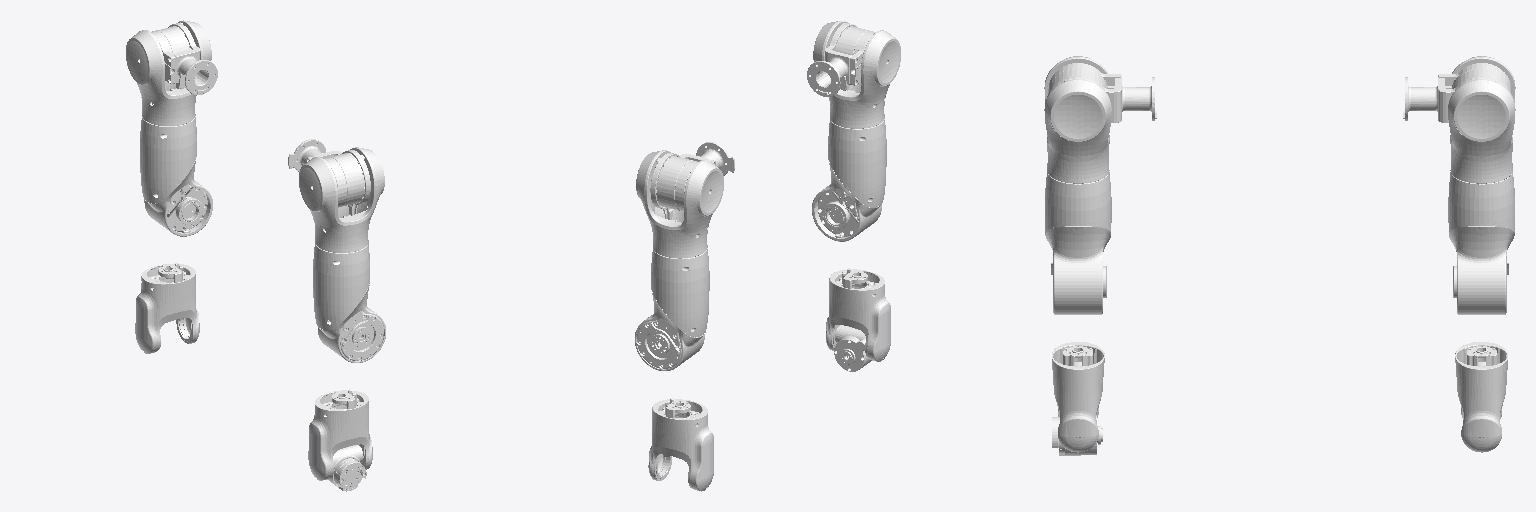
The robot description file, URDF, robot "biped_v3_arm":
<?xml version="1.0" ?>
<!-- =================================================================================== -->
<!-- |    This document was autogenerated by xacro from /home/fandes/workspace/kuavo-ros-control/src/humanoid-control/humanoid_interface_drake/models/biped_gen4.0/urdf/biped_v3_arm.xacro | -->
<!-- |    EDITING THIS FILE BY HAND IS NOT RECOMMENDED                                 | -->
<!-- =================================================================================== -->
<robot name="biped_v3_arm" xmlns:drake="https://drake.mit.edu">
  <link name="torso">
    <inertial>
      <origin xyz="-0.00505 0.0014 0.18077" rpy="0 0 0" />
      <mass value="33.6709" />
      <inertia ixx="0.28214" ixy="3e-05" ixz="0.01114" iyy="0.20534" iyz="0.00044" izz="0.13735" />
    </inertial>
    <visual>
      <origin rpy="0 0 0" xyz="0 0 0"/>
      <geometry>
        <mesh filename="../../meshes/base_link.STL"/>
      </geometry>
      <material name="">
        <color rgba="0.43137 0.45098 0.43137 1"/>
      </material>
    </visual>
    <!-- <collision>
      <origin xyz="0 0 0" rpy="0 0 0" />
      <geometry>
        <mesh filename="../../meshes/base_link.STL" />
      </geometry>
    </collision> -->
  </link>
  <!-- =========================================================== Arms ================================================================= -->
  <link name="zarm_l1_link">
    <inertial>
      <origin xyz="-0.00083 -0.02218 0.00035" rpy="0 0 0" />
      <mass value="0.962" />
      <inertia ixx="0.00225" ixy="-3e-05" ixz="0.0" iyy="0.00099" iyz="-2e-05" izz="0.00227" />
    </inertial>
    <visual>
      <origin xyz="0 0 0" rpy="0 0 0" />
      <geometry>
        <mesh filename="../../meshes/l_arm_pitch.STL" />
      </geometry>
      <material name="">
        <color rgba="1 1 1 1" />
      </material>
    </visual>
  </link>
  <joint name="zarm_l1_joint" type="revolute">
    <origin xyz="-0.017499853 0.29269999999999996 0.4245" rpy="0 0 0" />
    <parent link="torso" />
    <child link="zarm_l1_link" />
    <axis xyz="0 1 0" />
    <limit lower="-3.14159265358979" upper="1.5707963267949" effort="100.0" velocity="41.3433333333333" />
  </joint>
  <transmission type="SimpleTransmission">
    <joint name="zarm_l1_joint" />
    <actuator name="zarm_l1_joint_motor" />
  </transmission>
  <link name="zarm_l2_link">
    <inertial>
      <origin xyz="-0.00791 0.0 -0.04655" rpy="0 0 0" />
      <mass value="0.57" />
      <inertia ixx="0.00163" ixy="0.0" ixz="5e-05" iyy="0.00211" iyz="0.0" izz="0.00122" />
    </inertial>
    <visual>
      <origin xyz="0 0 0" rpy="0 0 0" />
      <geometry>
        <mesh filename="../../meshes/l_arm_roll.STL" />
      </geometry>
      <material name="">
        <color rgba="1 1 1 1" />
      </material>
    </visual>
  </link>
  <joint name="zarm_l2_joint" type="revolute">
    <origin xyz="0 0 0" rpy="0 0 0" />
    <parent link="zarm_l1_link" />
    <child link="zarm_l2_link" />
    <axis xyz="1 0 0" />
    <limit lower="-0.349065850398866" upper="2.0943951023932" effort="50.0" velocity="19.154" />
  </joint>
  <transmission type="SimpleTransmission">
    <joint name="zarm_l2_joint" />
    <actuator name="zarm_l2_joint_motor" />
  </transmission>
  <link name="zarm_l3_link">
    <inertial>
      <origin xyz="0.00628 0.00107 -0.20878" rpy="0 0 0" />
      <mass value="1.65" />
      <inertia ixx="0.00815" ixy="-4e-05" ixz="0.00085" iyy="0.00828" iyz="0.00014" izz="0.00206" />
    </inertial>
    <visual>
      <origin xyz="0 0 0" rpy="0 0 0" />
      <geometry>
        <mesh filename="../../meshes/l_arm_yaw.STL" />
      </geometry>
      <material name="">
        <color rgba="1 1 1 1" />
      </material>
    </visual>
  </link>
  <joint name="zarm_l3_joint" type="revolute">
    <origin xyz="0 0 0" rpy="0 0 0" />
    <parent link="zarm_l2_link" />
    <child link="zarm_l3_link" />
    <axis xyz="0 0 1" />
    <limit lower="-1.5707963267949" upper="1.5707963267949" effort="39.0" velocity="18.84" />
  </joint>
  <transmission type="SimpleTransmission">
    <joint name="zarm_l3_joint" />
    <actuator name="zarm_l3_joint_motor" />
  </transmission>
  <link name="zarm_l4_link">
    <inertial>
      <origin xyz="-0.01611 0.00143 -0.04857" rpy="0 0 0" />
      <mass value="0.429" />
      <inertia ixx="0.00135" ixy="0.0" ixz="-0.0001" iyy="0.00114" iyz="0.0" izz="0.00083" />
    </inertial>
    <visual>
      <origin xyz="0 0 0" rpy="0 0 0" />
      <geometry>
        <mesh filename="../../meshes/l_forearm.STL" />
      </geometry>
      <material name="">
        <color rgba="1 1 1 1" />
      </material>
    </visual>
  </link>
  <joint name="zarm_l4_joint" type="revolute">
    <origin xyz="0.0200000000000006 0 -0.283699999999996" rpy="0 0 0" />
    <parent link="zarm_l3_link" />
    <child link="zarm_l4_link" />
    <axis xyz="0 1 0" />
    <limit lower="-2.61799387799149" upper="0.0" effort="50.0" velocity="18.84" />
  </joint>
  <transmission type="SimpleTransmission">
    <joint name="zarm_l4_joint" />
    <actuator name="zarm_l4_joint_motor" />
  </transmission>
  <link name="zarm_l5_link">
    <inertial>
      <origin xyz="-0.00207 0.00018 -0.05079" rpy="0 0 0" />
      <mass value="0.61" />
      <inertia ixx="0.00107" ixy="0.0" ixz="-4e-05" iyy="0.00146" iyz="0.0" izz="0.00083" />
    </inertial>
    <visual>
      <origin xyz="0 0 0" rpy="0 0 0" />
      <geometry>
        <mesh filename="../../meshes/l_hand_yaw.STL" />
      </geometry>
      <material name="">
        <color rgba="1 1 1 1" />
      </material>
    </visual>
  </link>
  <joint name="zarm_l5_joint" type="revolute">
    <origin xyz="-0.0200000000000025 0 -0.127037274261591" rpy="0 0 0" />
    <parent link="zarm_l4_link" />
    <child link="zarm_l5_link" />
    <axis xyz="0 0 1" />
    <limit lower="-1.5707963267949" upper="1.5707963267949" effort="12.0" velocity="21.666" />
  </joint>
  <transmission type="SimpleTransmission">
    <joint name="zarm_l5_joint" />
    <actuator name="zarm_l5_joint_motor" />
  </transmission>
  <link name="zarm_l6_link">
    <inertial>
      <origin xyz="-0.00111 0.00335 -0.01335" rpy="0 0 0" />
      <mass value="0.331" />
      <inertia ixx="0.00022" ixy="0.0" ixz="0.0" iyy="0.00027" iyz="0.0" izz="0.00028" />
    </inertial>
    <visual>
      <origin xyz="0 0 0" rpy="0 0 0" />
      <geometry>
        <mesh filename="../../meshes/l_hand_roll.STL" />
      </geometry>
      <material name="">
        <color rgba="1 1 1 1" />
      </material>
    </visual>
  </link>
  <joint name="zarm_l6_joint" type="revolute">
    <origin xyz="0.000199999999999079 0 -0.106462725738415" rpy="0 0 0" />
    <parent link="zarm_l5_link" />
    <child link="zarm_l6_link" />
    <axis xyz="1 0 0" />
    <limit lower="-1.30899693899575" upper="0.698131700797732" effort="12.0" velocity="21.666" />
  </joint>
  <transmission type="SimpleTransmission">
    <joint name="zarm_l6_joint" />
    <actuator name="zarm_l6_joint_motor" />
  </transmission>
  <link name="zarm_l7_link">
    <inertial>
      <origin xyz="0.00186 0.01014 -0.09044" rpy="0 0 0" />
      <mass value="0.64" />
      <inertia ixx="0.00071" ixy="1e-05" ixz="2e-05" iyy="0.0007" iyz="-4e-05" izz="0.00012" />
    </inertial>
    <visual>
      <origin xyz="0 0 0" rpy="0 0 0" />
      <geometry>
        <mesh filename="../../meshes/l_hand_pitch.STL" />
      </geometry>
      <material name="">
        <color rgba="1 1 1 1" />
      </material>
    </visual>
  </link>
  <joint name="zarm_l7_joint" type="revolute">
    <origin xyz="0 0 -0.0210004653879916" rpy="0 0 0" />
    <parent link="zarm_l6_link" />
    <child link="zarm_l7_link" />
    <axis xyz="0 1 0" />
    <limit lower="-0.698131700797732" upper="0.698131700797732" effort="12.0" velocity="21.666" />
  </joint>
  <transmission type="SimpleTransmission">
    <joint name="zarm_l7_joint" />
    <actuator name="zarm_l7_joint_motor" />
  </transmission>
  <!-- right arm -->
  <link name="zarm_r1_link">
    <inertial>
      <origin xyz="-0.00083 0.02218 0.00035" rpy="0 0 0" />
      <mass value="0.962" />
      <inertia ixx="0.00225" ixy="3e-05" ixz="0.0" iyy="0.00099" iyz="2e-05" izz="0.00227" />
    </inertial>
    <visual>
      <origin xyz="0 0 0" rpy="0 0 0" />
      <geometry>
        <mesh filename="../../meshes/r_arm_pitch.STL" />
      </geometry>
      <material name="">
        <color rgba="1 1 1 1" />
      </material>
    </visual>
  </link>
  <joint name="zarm_r1_joint" type="revolute">
    <origin xyz="-0.017499853 -0.29269999999999996 0.4245" rpy="0 0 0" />
    <parent link="torso" />
    <child link="zarm_r1_link" />
    <axis xyz="0 1 0" />
    <limit lower="-3.14159265358979" upper="1.5707963267949" effort="100.0" velocity="41.3433333333333" />
  </joint>
  <transmission type="SimpleTransmission">
    <joint name="zarm_r1_joint" />
    <actuator name="zarm_r1_joint_motor" />
  </transmission>
  <link name="zarm_r2_link">
    <inertial>
      <origin xyz="-0.00791 0.0 -0.04655" rpy="0 0 0" />
      <mass value="0.57" />
      <inertia ixx="0.00163" ixy="0.0" ixz="5e-05" iyy="0.00211" iyz="0.0" izz="0.00122" />
    </inertial>
    <visual>
      <origin xyz="0 0 0" rpy="0 0 0" />
      <geometry>
        <mesh filename="../../meshes/r_arm_roll.STL" />
      </geometry>
      <material name="">
        <color rgba="1 1 1 1" />
      </material>
    </visual>
  </link>
  <joint name="zarm_r2_joint" type="revolute">
    <origin xyz="0 0 0" rpy="0 0 0" />
    <parent link="zarm_r1_link" />
    <child link="zarm_r2_link" />
    <axis xyz="1 0 0" />
    <limit lower="-2.0943951023932" upper="0.349065850398866" effort="50.0" velocity="19.154" />
  </joint>
  <transmission type="SimpleTransmission">
    <joint name="zarm_r2_joint" />
    <actuator name="zarm_r2_joint_motor" />
  </transmission>
  <link name="zarm_r3_link">
    <inertial>
      <origin xyz="0.00628 -0.00107 -0.20878" rpy="0 0 0" />
      <mass value="1.65" />
      <inertia ixx="0.00815" ixy="4e-05" ixz="0.00085" iyy="0.00828" iyz="-0.00014" izz="0.00206" />
    </inertial>
    <visual>
      <origin xyz="0 0 0" rpy="0 0 0" />
      <geometry>
        <mesh filename="../../meshes/r_arm_yaw.STL" />
      </geometry>
      <material name="">
        <color rgba="1 1 1 1" />
      </material>
    </visual>
  </link>
  <joint name="zarm_r3_joint" type="revolute">
    <origin xyz="0 0 0" rpy="0 0 0" />
    <parent link="zarm_r2_link" />
    <child link="zarm_r3_link" />
    <axis xyz="0 0 1" />
    <limit lower="-1.5707963267949" upper="1.5707963267949" effort="39.0" velocity="18.84" />
  </joint>
  <transmission type="SimpleTransmission">
    <joint name="zarm_r3_joint" />
    <actuator name="zarm_r3_joint_motor" />
  </transmission>
  <link name="zarm_r4_link">
    <inertial>
      <origin xyz="-0.01611 -0.00143 -0.04857" rpy="0 0 0" />
      <mass value="0.429" />
      <inertia ixx="0.00135" ixy="0.0" ixz="-0.0001" iyy="0.00114" iyz="0.0" izz="0.00083" />
    </inertial>
    <visual>
      <origin xyz="0 0 0" rpy="0 0 0" />
      <geometry>
        <mesh filename="../../meshes/r_forearm.STL" />
      </geometry>
      <material name="">
        <color rgba="1 1 1 1" />
      </material>
    </visual>
  </link>
  <joint name="zarm_r4_joint" type="revolute">
    <origin xyz="0.0200000000000024 0 -0.2837" rpy="0 0 0" />
    <parent link="zarm_r3_link" />
    <child link="zarm_r4_link" />
    <axis xyz="0 1 0" />
    <limit lower="-2.61799387799149" upper="0.0" effort="50.0" velocity="18.84" />
  </joint>
  <transmission type="SimpleTransmission">
    <joint name="zarm_r4_joint" />
    <actuator name="zarm_r4_joint_motor" />
  </transmission>
  <link name="zarm_r5_link">
    <inertial>
      <origin xyz="-0.00207 -0.00018 -0.05079" rpy="0 0 0" />
      <mass value="0.61" />
      <inertia ixx="0.00107" ixy="0.0" ixz="-4e-05" iyy="0.00146" iyz="0.0" izz="0.00083" />
    </inertial>
    <visual>
      <origin xyz="0 0 0" rpy="0 0 0" />
      <geometry>
        <mesh filename="../../meshes/r_hand_yaw.STL" />
      </geometry>
      <material name="">
        <color rgba="1 1 1 1" />
      </material>
    </visual>
  </link>
  <joint name="zarm_r5_joint" type="revolute">
    <origin xyz="-0.0200000000000001 0 -0.127037274261587" rpy="0 0 0" />
    <parent link="zarm_r4_link" />
    <child link="zarm_r5_link" />
    <axis xyz="0 0 1" />
    <limit lower="-1.5707963267949" upper="1.5707963267949" effort="12.0" velocity="21.666" />
  </joint>
  <transmission type="SimpleTransmission">
    <joint name="zarm_r5_joint" />
    <actuator name="zarm_r5_joint_motor" />
  </transmission>
  <link name="zarm_r6_link">
    <inertial>
      <origin xyz="-0.00111 -0.00335 -0.01335" rpy="0 0 0" />
      <mass value="0.331" />
      <inertia ixx="0.00022" ixy="0.0" ixz="0.0" iyy="0.00027" iyz="0.0" izz="0.00028" />
    </inertial>
    <visual>
      <origin xyz="0 0 0" rpy="0 0 0" />
      <geometry>
        <mesh filename="../../meshes/r_hand_roll.STL" />
      </geometry>
      <material name="">
        <color rgba="1 1 1 1" />
      </material>
    </visual>
  </link>
  <joint name="zarm_r6_joint" type="revolute">
    <origin xyz="0 0 -0.106462725738415" rpy="0 0 0" />
    <parent link="zarm_r5_link" />
    <child link="zarm_r6_link" />
    <axis xyz="1 0 0" />
    <limit lower="-0.698131700797732" upper="1.30899693899575" effort="12.0" velocity="21.666" />
  </joint>
  <transmission type="SimpleTransmission">
    <joint name="zarm_r6_joint" />
    <actuator name="zarm_r6_joint_motor" />
  </transmission>
  <link name="zarm_r7_link">
    <inertial>
      <origin xyz="0.00186 -0.01014 -0.09044" rpy="0 0 0" />
      <mass value="0.64" />
      <inertia ixx="0.00069" ixy="-1e-05" ixz="2e-05" iyy="0.00068" iyz="5e-05" izz="0.00012" />
    </inertial>
    <visual>
      <origin xyz="0 0 0" rpy="0 0 0" />
      <geometry>
        <mesh filename="../../meshes/r_hand_pitch.STL" />
      </geometry>
      <material name="">
        <color rgba="1 1 1 1" />
      </material>
    </visual>
  </link>
  <joint name="zarm_r7_joint" type="revolute">
    <origin xyz="0 0 -0.0209999999999999" rpy="0 0 0" />
    <parent link="zarm_r6_link" />
    <child link="zarm_r7_link" />
    <axis xyz="0 1 0" />
    <limit lower="-0.698131700797732" upper="0.698131700797732" effort="12.0" velocity="21.666" />
  </joint>
  <transmission type="SimpleTransmission">
    <joint name="zarm_r7_joint" />
    <actuator name="zarm_r7_joint_motor" />
  </transmission>
  <!-- end frame -->
  <!-- <frame link="l_hand_pitch" name="l_hand_sole" xyz="0 0 -0.1" /> -->
  <!-- end frame -->
  <!-- <frame link="r_hand_pitch" name="r_hand_sole" xyz="0 0 -0.1" /> -->
</robot>

--- What the picture shows (computed from the rendered views, not written in the file) ---
The picture shows the robot from 3 angles, left to right: view 1: azimuth 30°, elevation 25°; view 2: azimuth 150°, elevation 25°; view 3: azimuth 270°, elevation 25°; orthographic projection.
Model biped_v3_arm with 15 links and 14 joints (14 revolute), rooted at torso, posed all joints at 0.
Links seen in each view (by area): view 1: zarm_l3_link, zarm_r3_link, zarm_r2_link, zarm_l5_link, zarm_l2_link, zarm_r5_link, zarm_l1_link, zarm_r1_link, zarm_r6_link; view 2: zarm_r3_link, zarm_l3_link, zarm_l2_link, zarm_l5_link, zarm_r2_link, zarm_r5_link, zarm_r1_link, zarm_l1_link, zarm_r6_link; view 3: zarm_l3_link, zarm_r3_link, zarm_l2_link, zarm_r2_link, zarm_l5_link, zarm_r5_link, zarm_r1_link, zarm_l1_link, zarm_r6_link.
Boxes of the visible links, bbox=[...] form: zarm_l3_link: bbox=[140, 117, 212, 236]; zarm_r3_link: bbox=[313, 243, 385, 362]; zarm_r2_link: bbox=[299, 147, 384, 252]; zarm_l5_link: bbox=[135, 263, 199, 353]; zarm_l2_link: bbox=[126, 20, 211, 125]; zarm_r5_link: bbox=[308, 389, 372, 480]; zarm_l1_link: bbox=[151, 22, 217, 94]; zarm_r1_link: bbox=[288, 139, 370, 207]; zarm_r6_link: bbox=[327, 445, 366, 491]; zarm_r3_link: bbox=[812, 119, 886, 241]; zarm_l3_link: bbox=[635, 248, 709, 370]; zarm_l2_link: bbox=[636, 150, 723, 258]; zarm_l5_link: bbox=[648, 398, 713, 491]; zarm_r2_link: bbox=[813, 21, 900, 128]; zarm_r5_link: bbox=[826, 268, 890, 361]; zarm_r1_link: bbox=[807, 23, 875, 96]; zarm_l1_link: bbox=[650, 142, 734, 211]; zarm_r6_link: bbox=[834, 325, 871, 371]; zarm_l3_link: bbox=[1448, 172, 1514, 314]; zarm_r3_link: bbox=[1045, 172, 1111, 314]; zarm_l2_link: bbox=[1448, 56, 1515, 183]; zarm_r2_link: bbox=[1044, 56, 1111, 183]; zarm_l5_link: bbox=[1455, 342, 1507, 452]; zarm_r5_link: bbox=[1052, 342, 1104, 452]; zarm_r1_link: bbox=[1047, 63, 1156, 122]; zarm_l1_link: bbox=[1403, 63, 1512, 122]; zarm_r6_link: bbox=[1052, 415, 1102, 455].
Size in the robot's own frame: 0.128 by 0.6834 by 0.6172 metres.
Meshes: 15 distinct files referenced, 9 mesh visuals loaded (9 binary STL); not drawn: 6 (reference not matched to a file when rendering).
